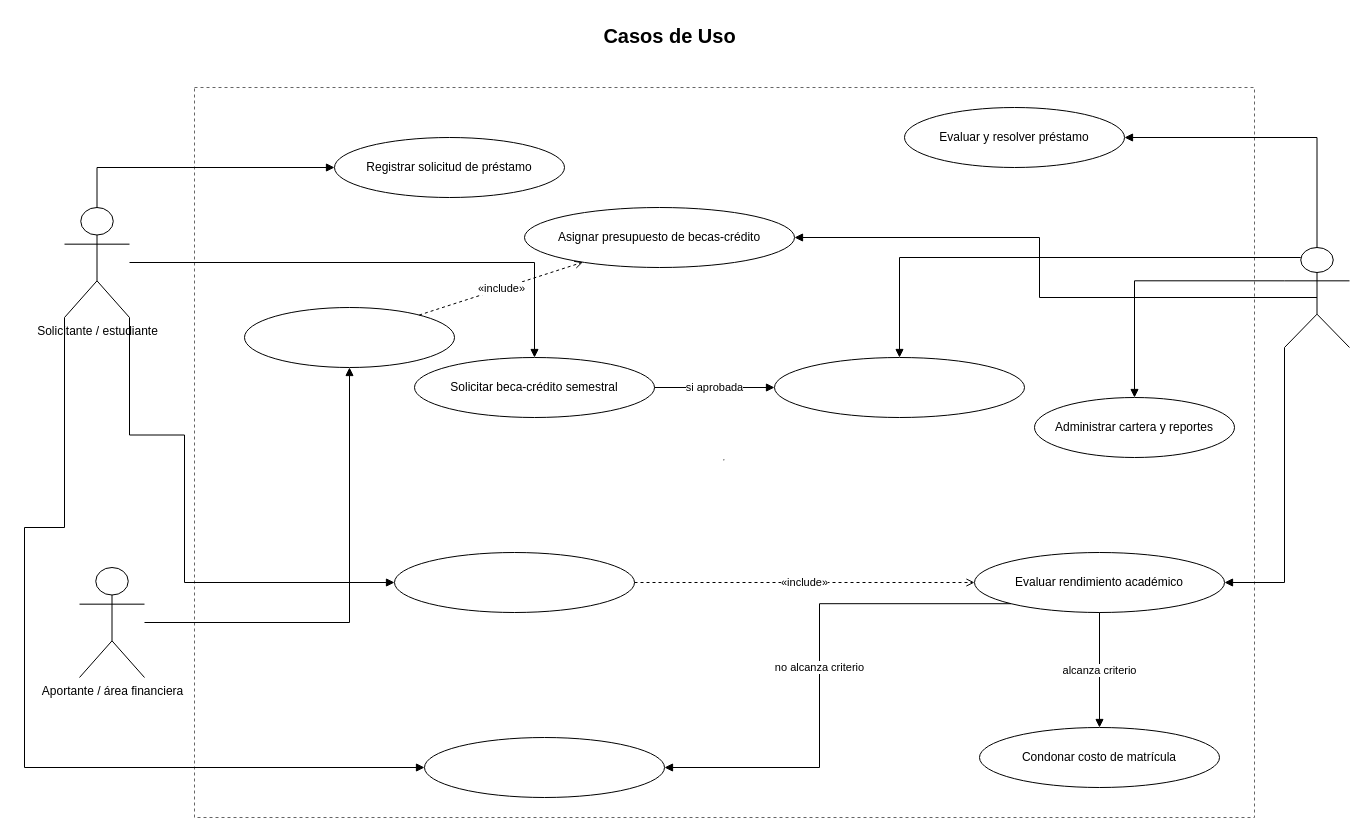
Image size: 1371x835. Some labels were removed from this diagram. The box of each missing label's shape, as (x1, y1, x2, y2) in pixels:
Generar obligación de pago: (424, 736, 664, 798)
Gestor MSGF: (1284, 246, 1350, 348)
Presentar notas del semestre: (394, 552, 634, 612)
Registrar aporte anual: (244, 306, 454, 368)
Registrar matrícula y desembolsar: (774, 356, 1024, 418)
